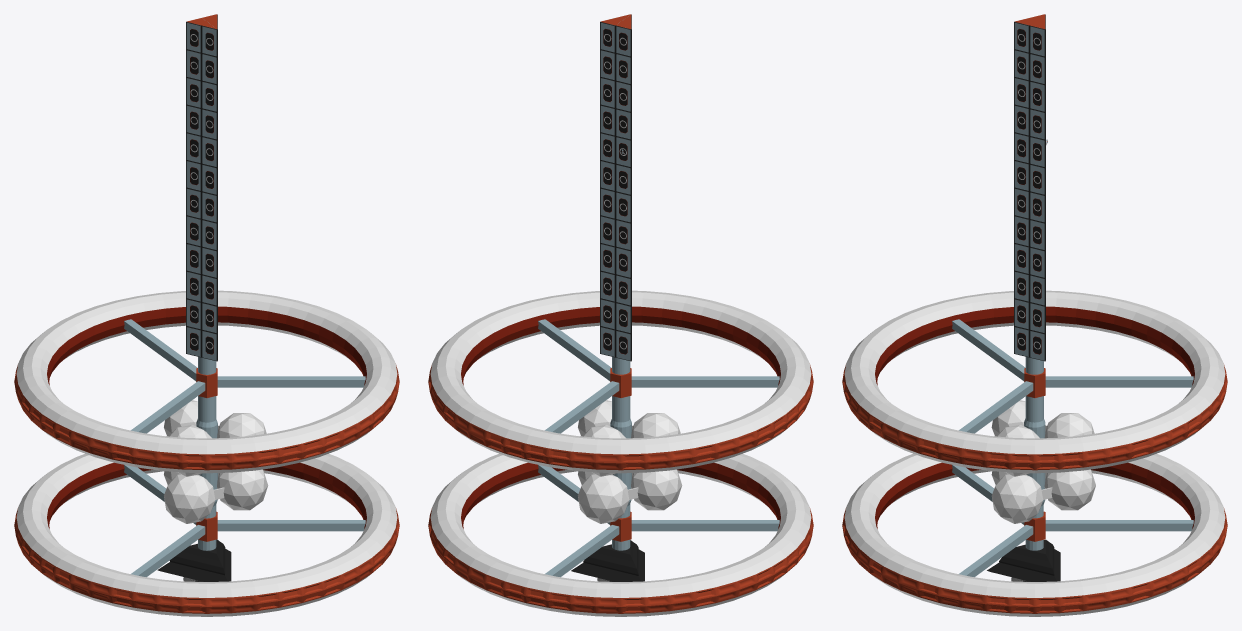
The model's file is shipcarrier.glb.
3 views of the same model, side by side, from view 1: azimuth 30°, elevation 25°; view 2: azimuth 150°, elevation 25°; view 3: azimuth 270°, elevation 25° (orthographic).
Visible parts, largest first — view 1: ring, ring.001, mainShip, tank, Cylinder, tank.003, tank.005, tank.002; view 2: ring, ring.001, mainShip, tank.001, Cylinder, tank, tank.004, tank.005; view 3: ring, ring.001, mainShip, Cylinder, tank.003, tank.001, tank.002, tank.004.
Part boxes in pixels (x1,y1,x2,y2): ring: (14, 290, 399, 473); ring.001: (14, 436, 399, 616); mainShip: (186, 14, 217, 550); tank: (164, 474, 215, 523); Cylinder: (157, 539, 231, 581); tank.003: (217, 469, 268, 510); tank.005: (217, 413, 266, 438); tank.002: (164, 400, 197, 436); ring: (428, 290, 813, 473); ring.001: (428, 436, 813, 616); mainShip: (600, 14, 631, 550); tank.001: (578, 474, 629, 523); Cylinder: (571, 540, 644, 581); tank: (631, 469, 682, 510); tank.004: (631, 413, 680, 438); tank.005: (578, 400, 611, 436); ring: (842, 290, 1227, 473); ring.001: (842, 436, 1227, 616); mainShip: (1014, 14, 1045, 550); Cylinder: (987, 539, 1060, 581); tank.003: (991, 474, 1043, 523); tank.001: (1044, 469, 1095, 510); tank.002: (1044, 413, 1094, 438); tank.004: (991, 400, 1025, 436).
Size of the model in its own units: 778 by 1305 by 778.
Materials: 78 (78 with a texture image).
